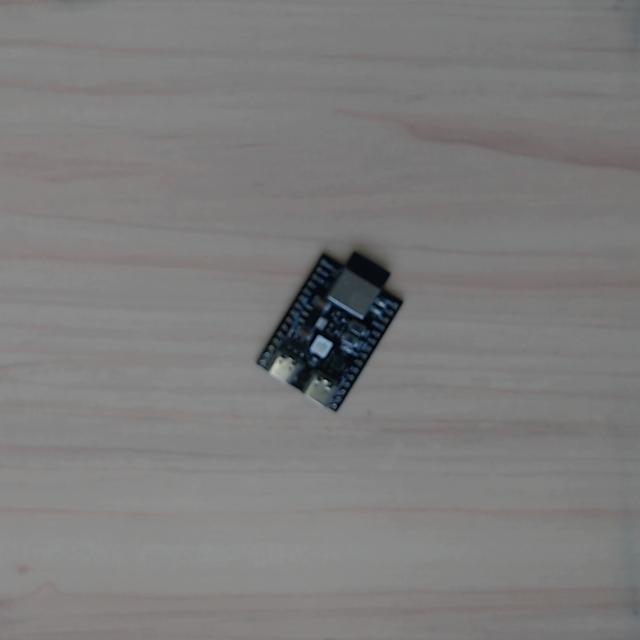ESP32C3-DevKit: (254, 234, 414, 413)
